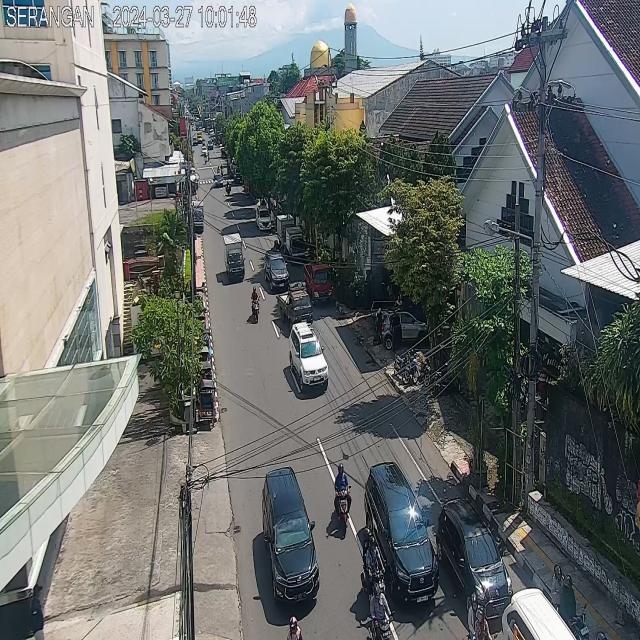car: (365, 462, 439, 605), (441, 500, 514, 616), (262, 466, 320, 604), (502, 587, 577, 640), (289, 323, 328, 392), (265, 249, 288, 293), (256, 206, 272, 231), (213, 174, 224, 188), (207, 140, 214, 150), (201, 147, 207, 156), (193, 138, 197, 146)
motorcycle: (552, 565, 590, 640), (359, 528, 386, 602), (465, 591, 497, 640), (369, 583, 395, 640), (332, 460, 351, 538), (251, 283, 261, 323), (273, 240, 281, 254), (226, 181, 231, 196), (217, 164, 221, 177), (220, 164, 224, 177), (207, 151, 211, 161), (204, 152, 207, 165), (202, 138, 205, 147)
truck: (277, 286, 313, 329), (304, 263, 333, 305), (223, 233, 245, 283), (286, 228, 308, 265), (277, 216, 294, 248), (197, 131, 202, 144)
